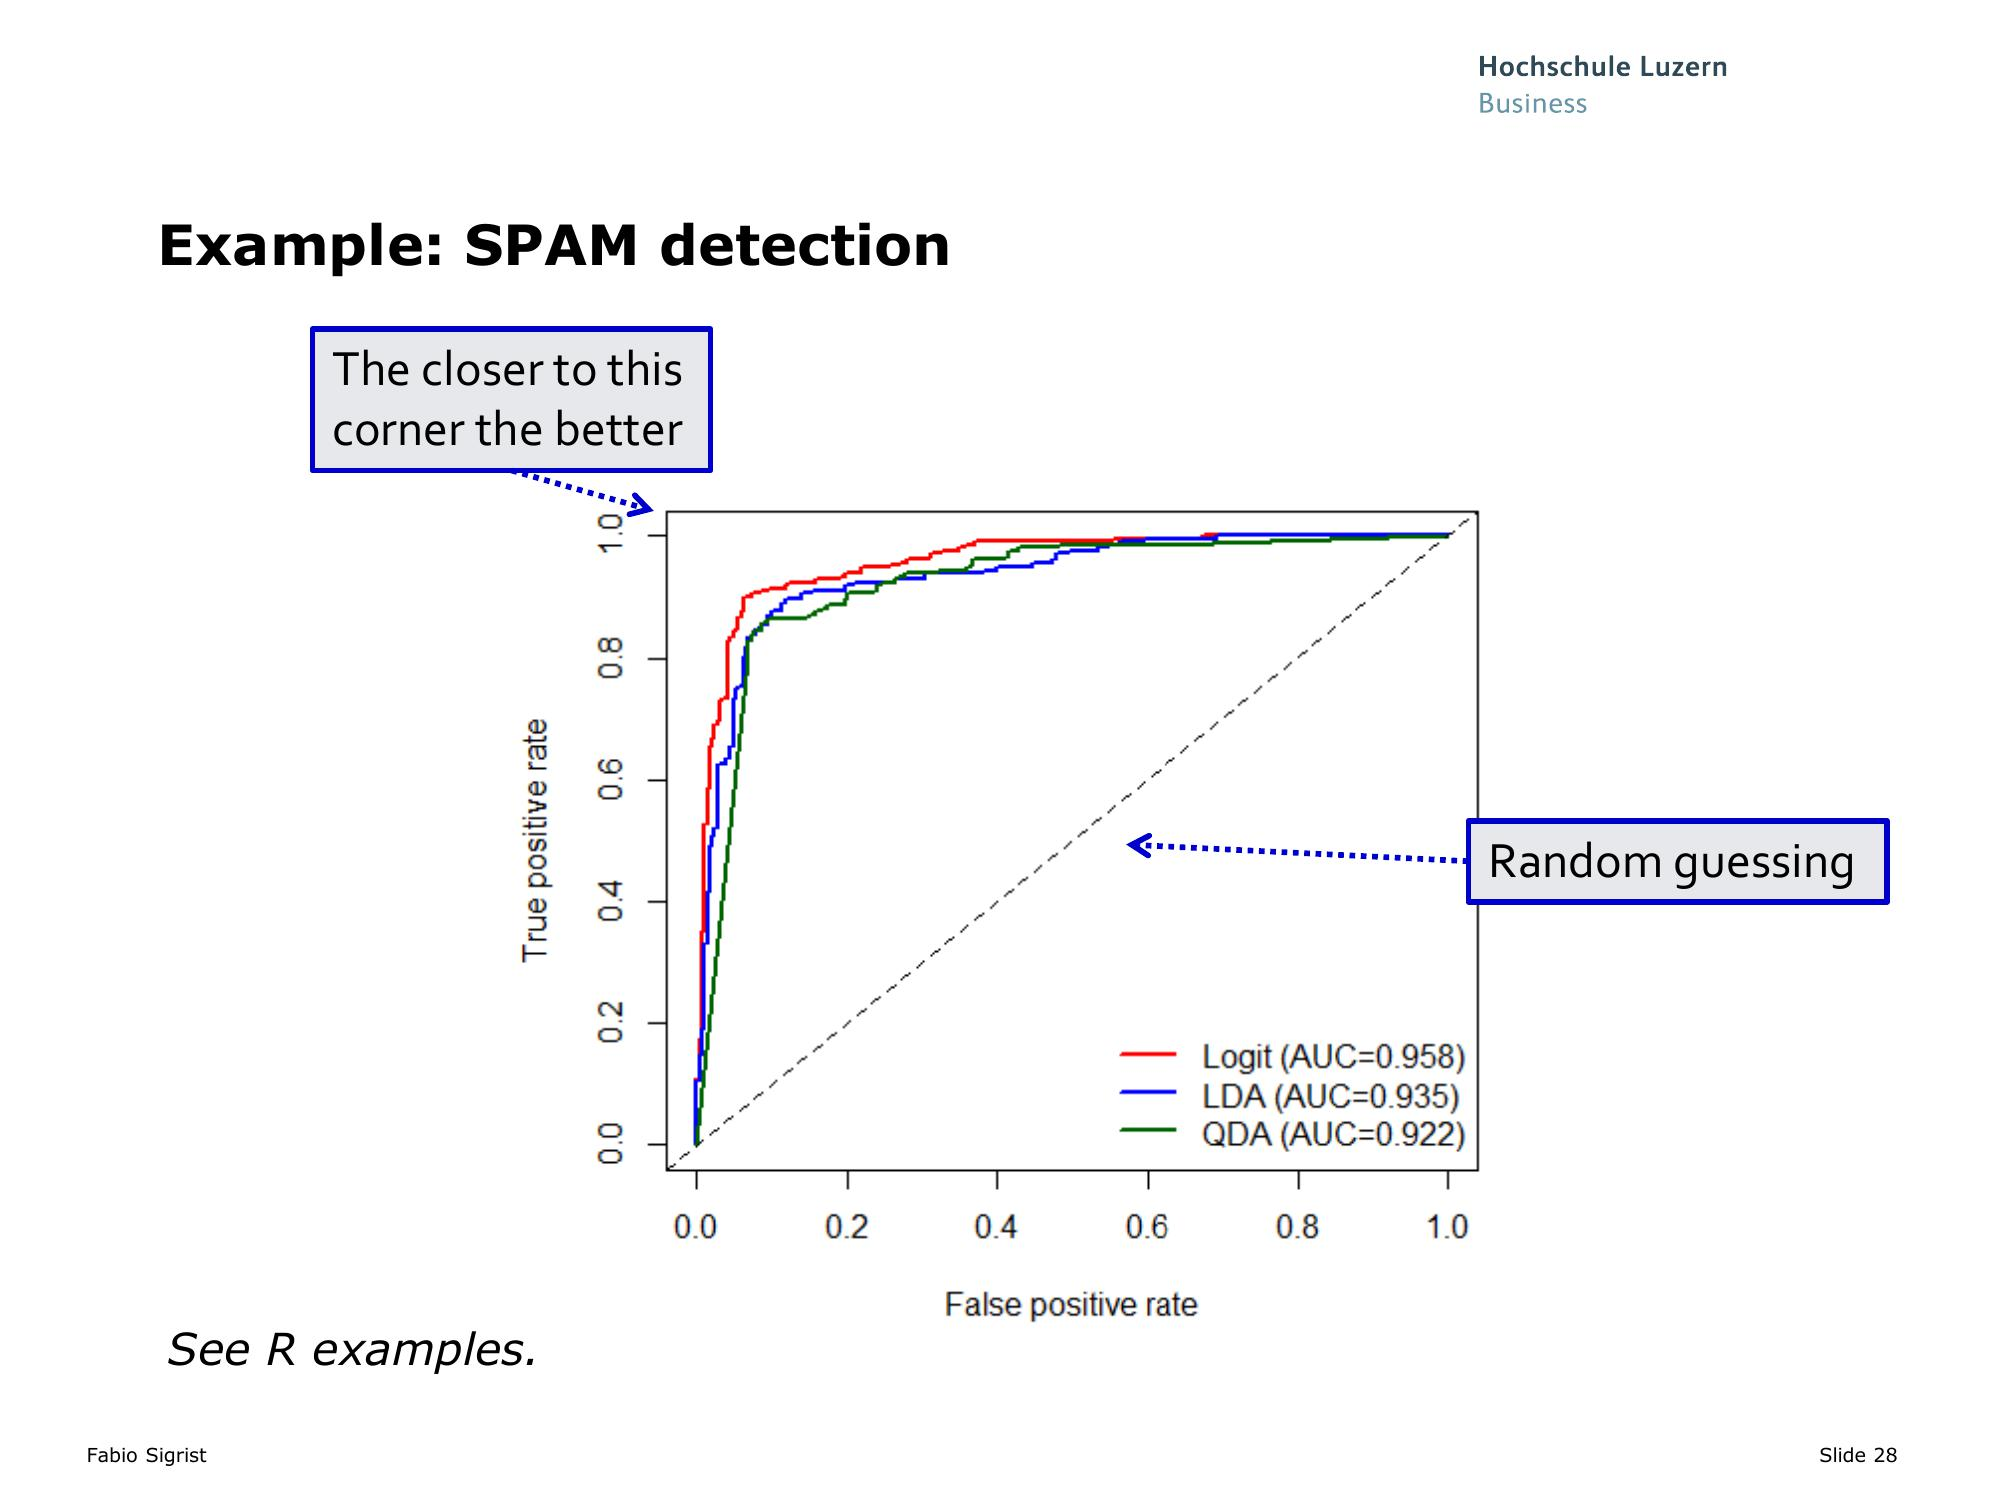Title: (132, 211, 981, 291)
